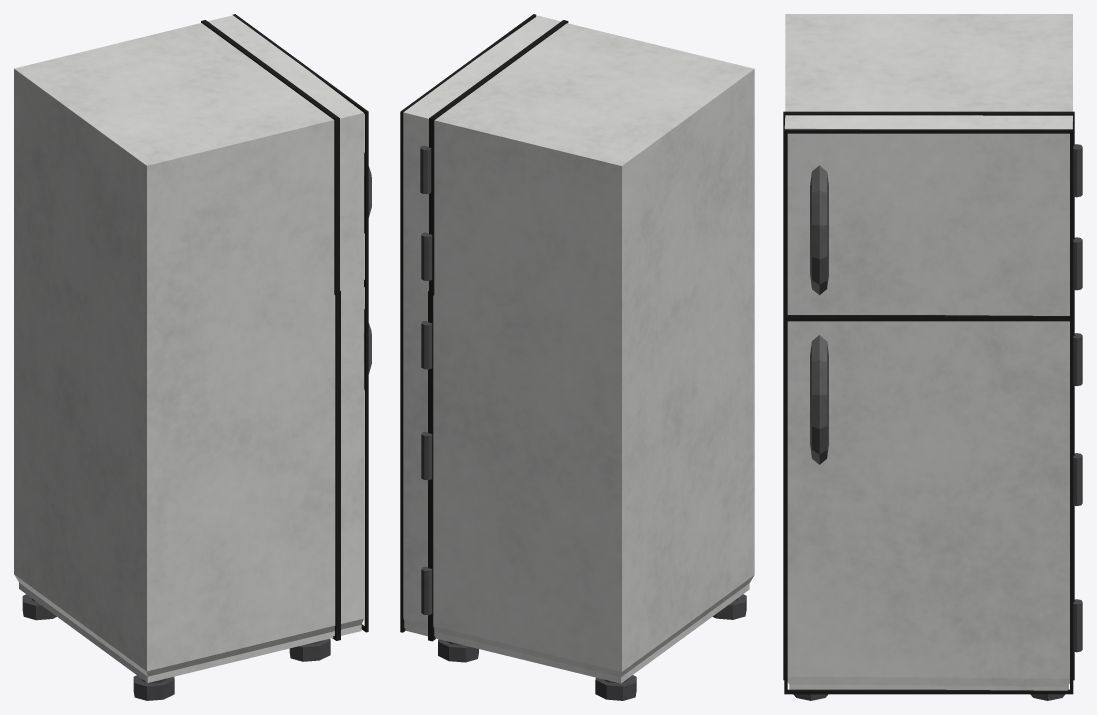
Rendered from nevera.fbx.
3 views of the same model, side by side, from view 1: azimuth 30°, elevation 25°; view 2: azimuth 150°, elevation 25°; view 3: azimuth 270°, elevation 25° (orthographic). The views are drawn at different scales.
Visible parts, largest first — view 1: Nevera_Cuerpo_Refrigerador, Nevera_Cuerpo_Congelador, Nevera_Puerta_Refrigerador, Nevera_Puerta_Congelador, Nevera_Bordes_Puertas, base trasera izq, base delantera izq; view 2: Nevera_Cuerpo_Refrigerador, Nevera_Cuerpo_Congelador, Nevera_Puerta_Refrigerador, Nevera_Puerta_Congelador, Nevera_Bordes_Puertas, Nevera, base trasera derecha, base delantera derecha; view 3: Nevera_Puerta_Refrigerador, Nevera_Puerta_Congelador, Nevera_Cuerpo_Congelador, Nevera_Bordes_Puertas, Nevera, Nevera_Manija_Refrigerador, Nevera_Manija_Congelador.
Boxes of the visible parts, x1=… form: Nevera_Cuerpo_Refrigerador: x1=14, y1=242, x2=335, y2=682; Nevera_Cuerpo_Congelador: x1=14, y1=23, x2=334, y2=338; Nevera_Puerta_Refrigerador: x1=334, y1=286, x2=363, y2=635; Nevera_Puerta_Congelador: x1=208, y1=15, x2=363, y2=291; Nevera_Bordes_Puertas: x1=201, y1=14, x2=368, y2=640; base trasera izq: x1=133, y1=675, x2=174, y2=700; base delantera izq: x1=289, y1=638, x2=330, y2=661; Nevera_Cuerpo_Refrigerador: x1=433, y1=243, x2=754, y2=683; Nevera_Cuerpo_Congelador: x1=428, y1=23, x2=754, y2=339; Nevera_Puerta_Refrigerador: x1=403, y1=286, x2=427, y2=636; Nevera_Puerta_Congelador: x1=403, y1=15, x2=560, y2=291; Nevera_Bordes_Puertas: x1=400, y1=14, x2=568, y2=641; Nevera: x1=420, y1=145, x2=432, y2=615; base trasera derecha: x1=595, y1=675, x2=636, y2=700; base delantera derecha: x1=438, y1=639, x2=478, y2=662; Nevera_Puerta_Refrigerador: x1=787, y1=321, x2=1069, y2=690; Nevera_Puerta_Congelador: x1=784, y1=115, x2=1072, y2=315; Nevera_Cuerpo_Congelador: x1=785, y1=14, x2=1072, y2=116; Nevera_Bordes_Puertas: x1=783, y1=111, x2=1074, y2=694; Nevera: x1=1073, y1=144, x2=1082, y2=652; Nevera_Manija_Refrigerador: x1=810, y1=335, x2=828, y2=464; Nevera_Manija_Congelador: x1=810, y1=165, x2=828, y2=295.
Bounding box in the file's own units: 309 × 660 × 306.
6 materials, 5 textured.
